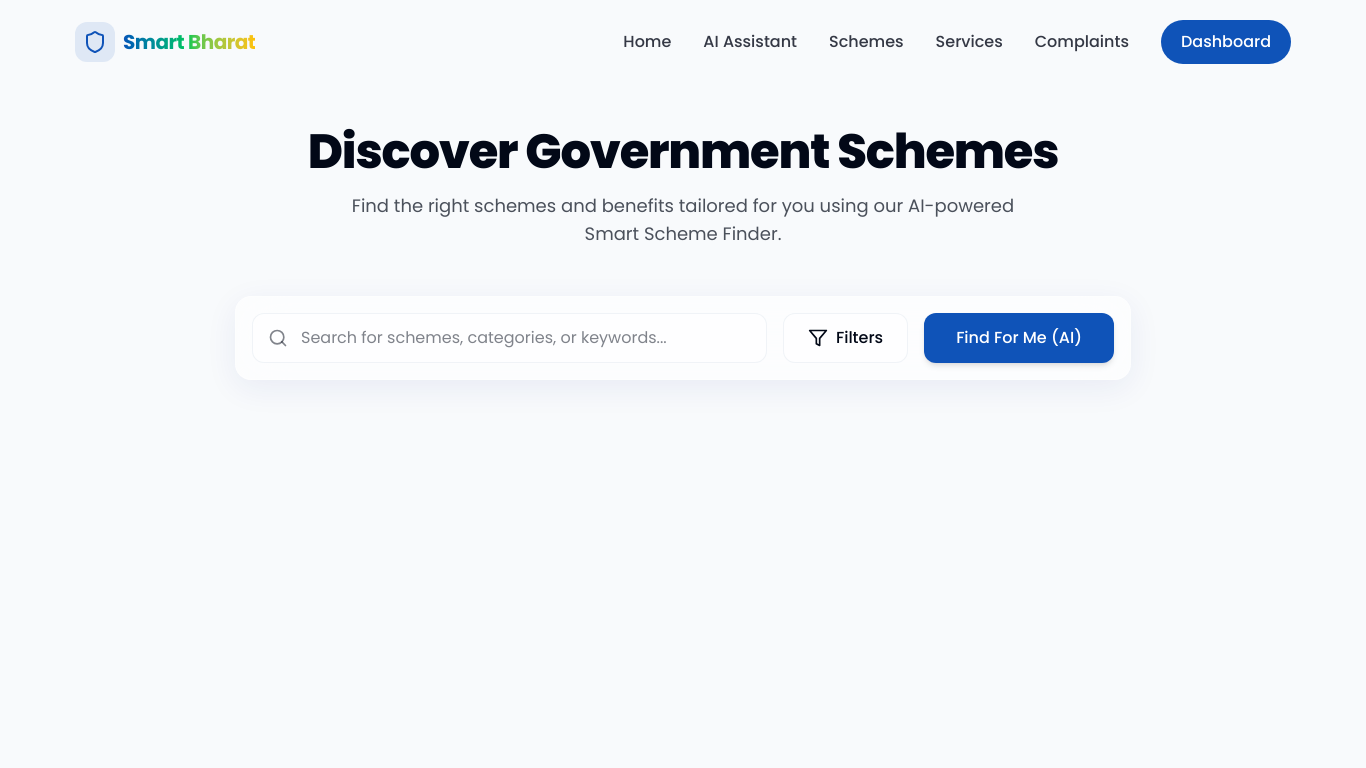
Test: Schemes Page Component › filters schemes based on search input
Step 1. Type "Health" into the field with placeholder "Search for schemes, categories, or keywords..." → (509, 338), box [252,313,767,363]
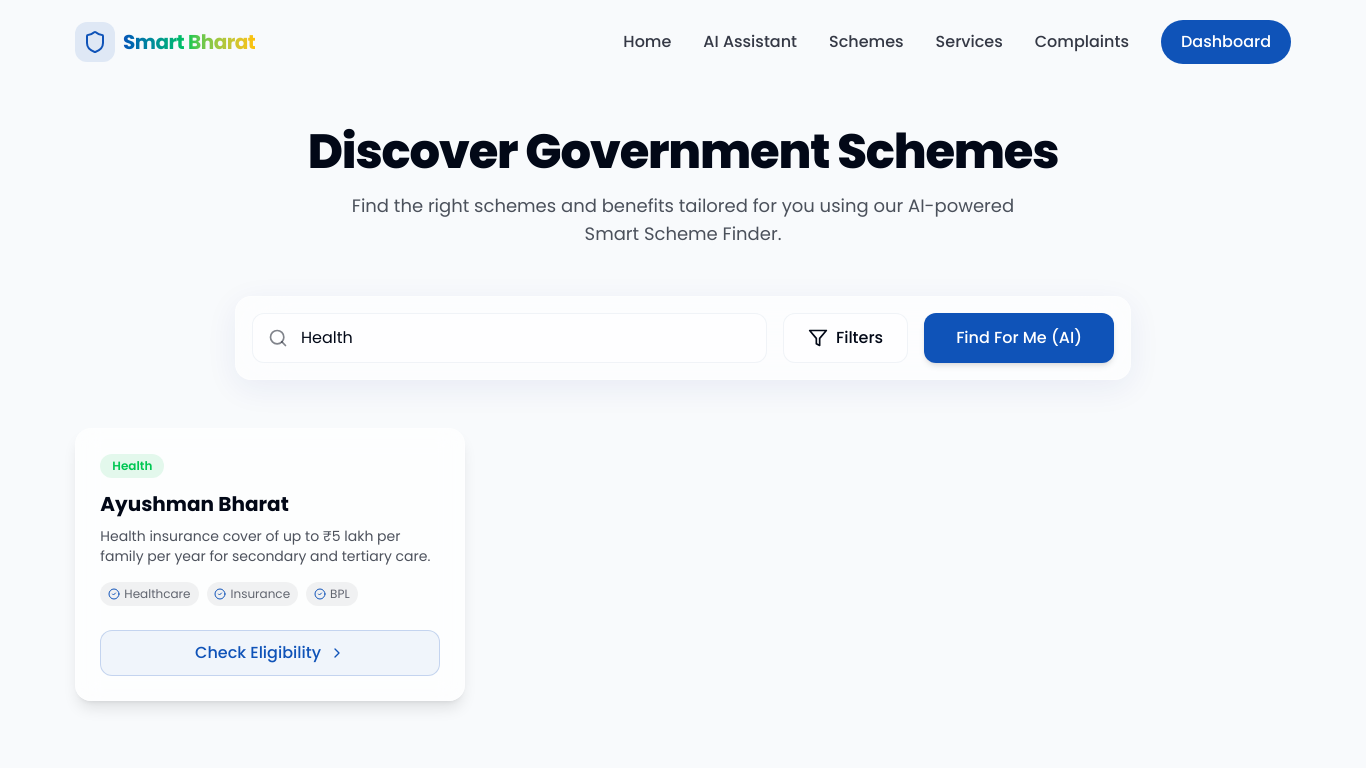
Result: the heading "Ayushman Bharat" is shown at [100,490,288,518]
